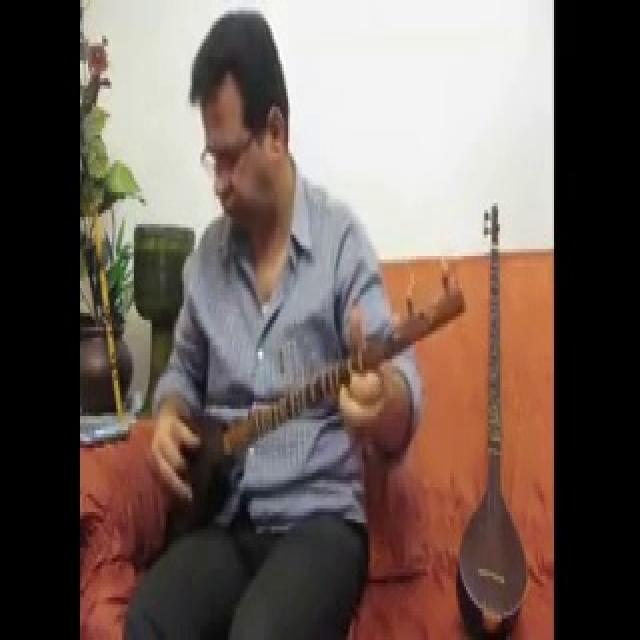Setar: (152, 262, 477, 556), (444, 191, 539, 633)
